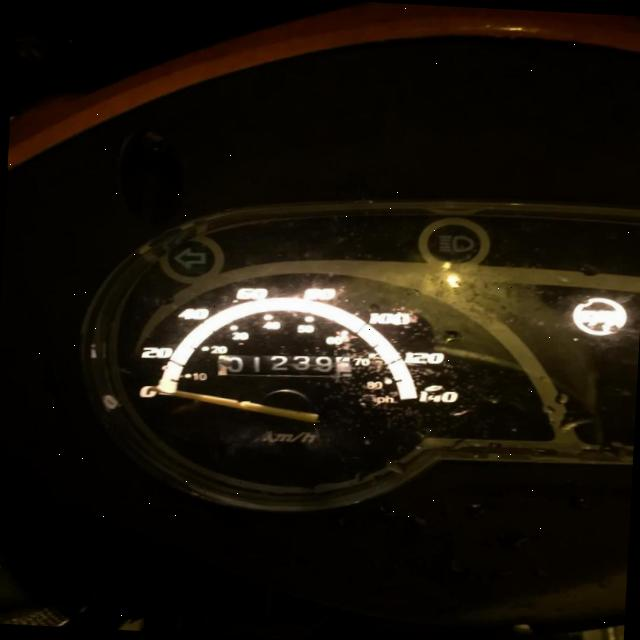odometer: (214, 349, 354, 384)
